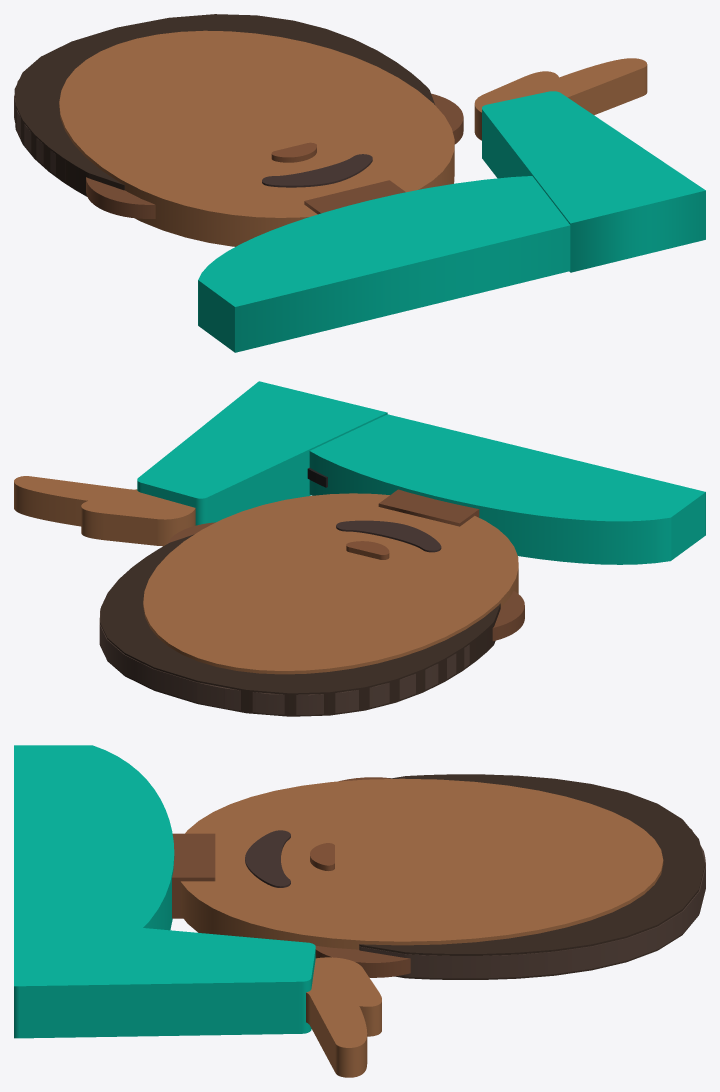
The model's file is emoji_u1f481_1f3fe_200d_2642.glb.
The picture shows the model from 3 angles, top to bottom: view 1: azimuth 30°, elevation 25°; view 2: azimuth 150°, elevation 25°; view 3: azimuth 270°, elevation 25°; orthographic projection. The views are drawn at different scales.
Visible parts, largest first — view 1: emoji_u1f481_1f3fe_200d_2642; view 2: emoji_u1f481_1f3fe_200d_2642; view 3: emoji_u1f481_1f3fe_200d_2642.
Part boxes in pixels (x1,y1,x2,y2): emoji_u1f481_1f3fe_200d_2642: (14, 14, 705, 352); emoji_u1f481_1f3fe_200d_2642: (14, 381, 705, 716); emoji_u1f481_1f3fe_200d_2642: (14, 745, 705, 1077).
Size of the model in its own units: 0.0338 by 0.0028 by 0.0337.
